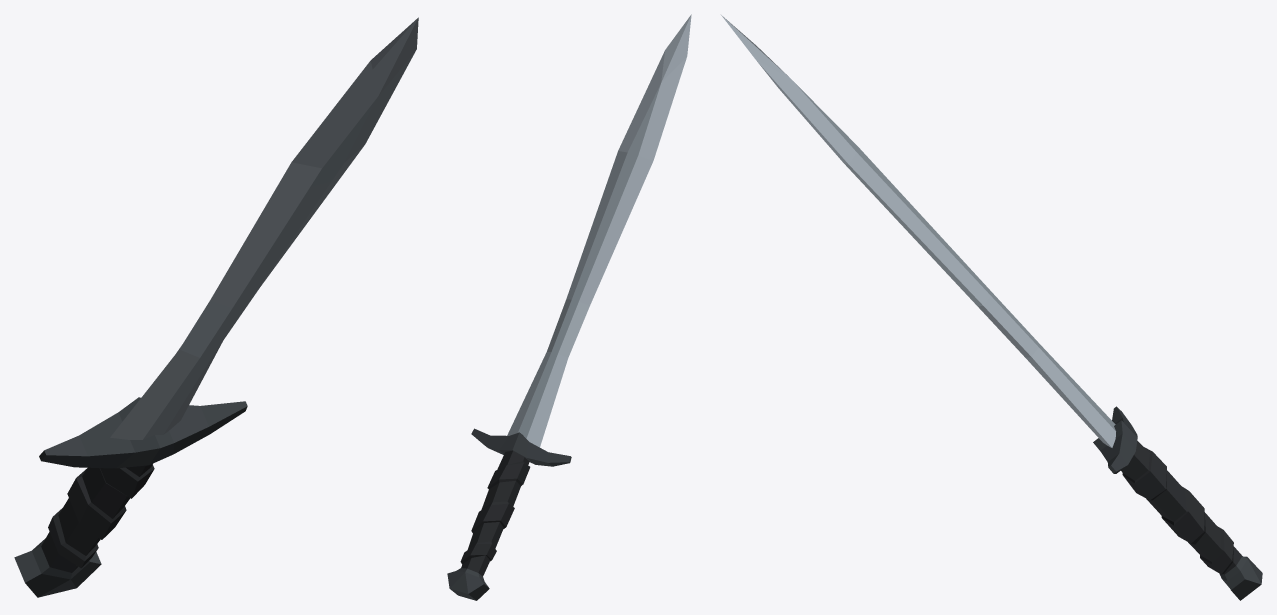
Rendered from fk-sword-09.glb.
The picture shows the model from 3 angles, left to right: view 1: azimuth 30°, elevation 25°; view 2: azimuth 150°, elevation 25°; view 3: azimuth 270°, elevation 25°; orthographic projection. The views are drawn at different scales.
Parts seen in each view (by area): view 1: fk-sword-09; view 2: fk-sword-09; view 3: fk-sword-09.
Part boxes in pixels (<box>): fk-sword-09: <box>14,17,418,597</box>; fk-sword-09: <box>447,14,691,600</box>; fk-sword-09: <box>721,15,1262,600</box>.
Size of the model in its own units: 0.1889 by 0.7958 by 0.6889.
1 material, 1 textured.
